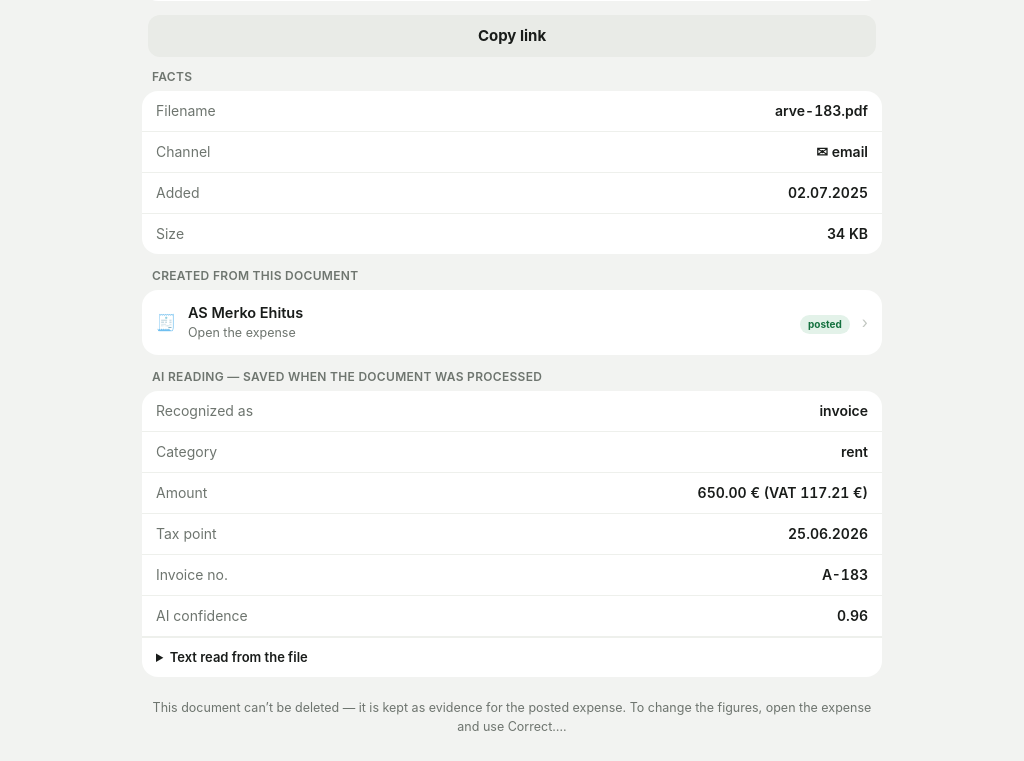
Test: DocumentScreen › renders facts, persisted classification + OCR, and the REAL expense navigation
(page scrolled)
expect the text "arve-183.pdf" is shown: met, box [775, 101, 868, 121]
expect the text "✉ email" is shown: met, box [816, 142, 868, 162]
OCR collapsible:
Click the heading "Text read from the file".
click(239, 656)  # box [170, 648, 308, 664]
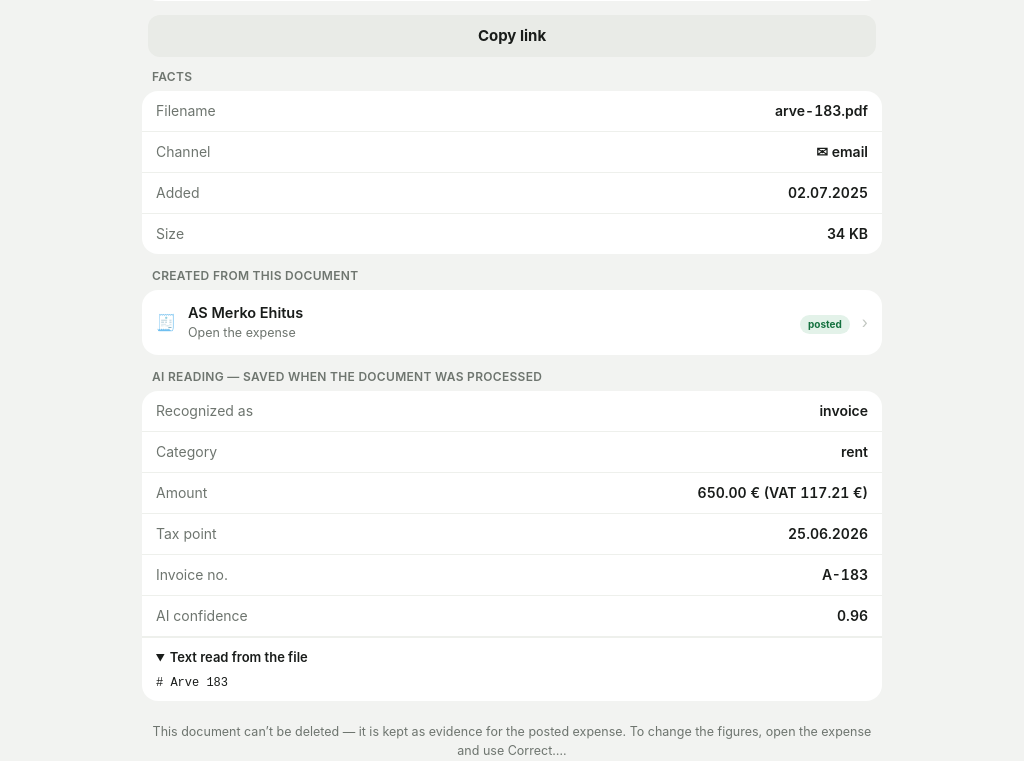
expect the text "# Arve 183" is shown: met, box [156, 676, 228, 690]
